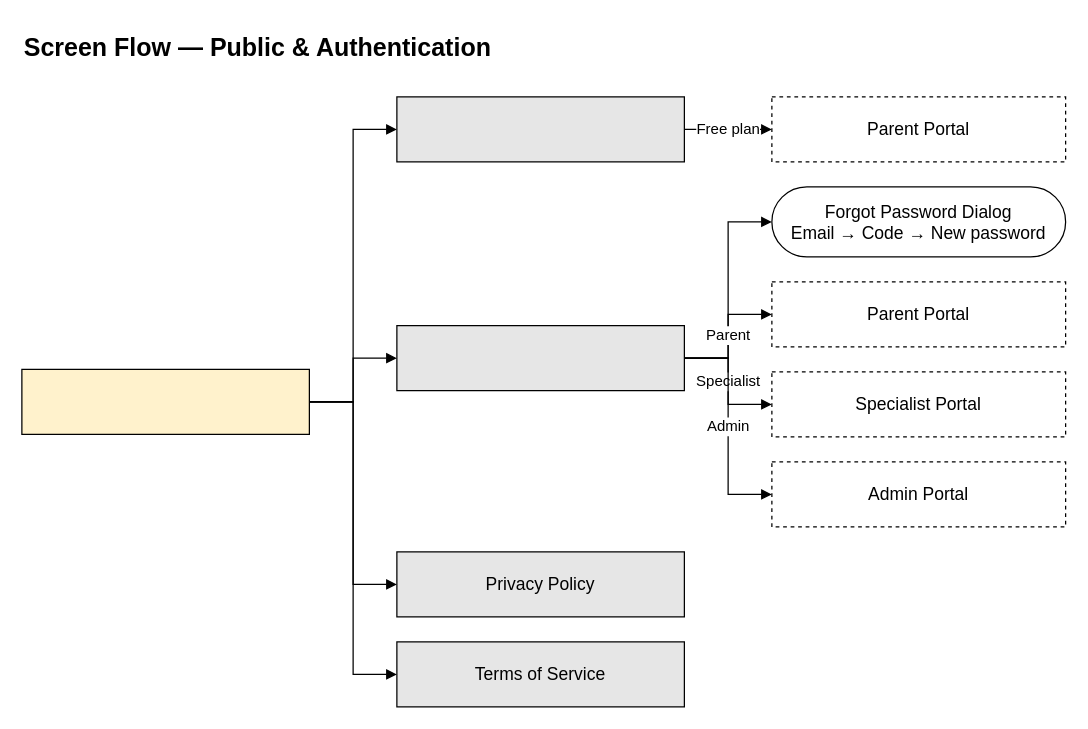
The diagram is 1088 pixels wide and 729 high, and some of its shapes have lost their labels. Each missing label, with the centre of its shape:
Landing Page: point 165,401
Login: point 540,357
Register: point 540,129
